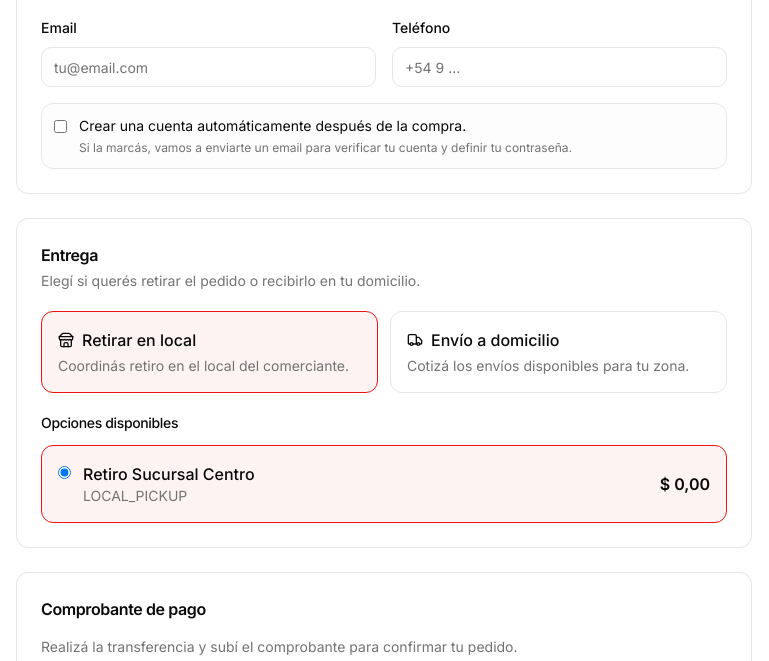
Test: CheckoutPage › clears pickup quotes when switching to home delivery until the user requests a new quote
(page scrolled)
Check: the text "Retiro Sucursal Centro" is shown, box left=83, top=462, right=255, bottom=486
What coordinates should you click on to do the following:
click the button "Envío a domicilio"
I would click on:
 (558, 352)
Its box is left=390, top=311, right=727, bottom=393.
(page scrolled)
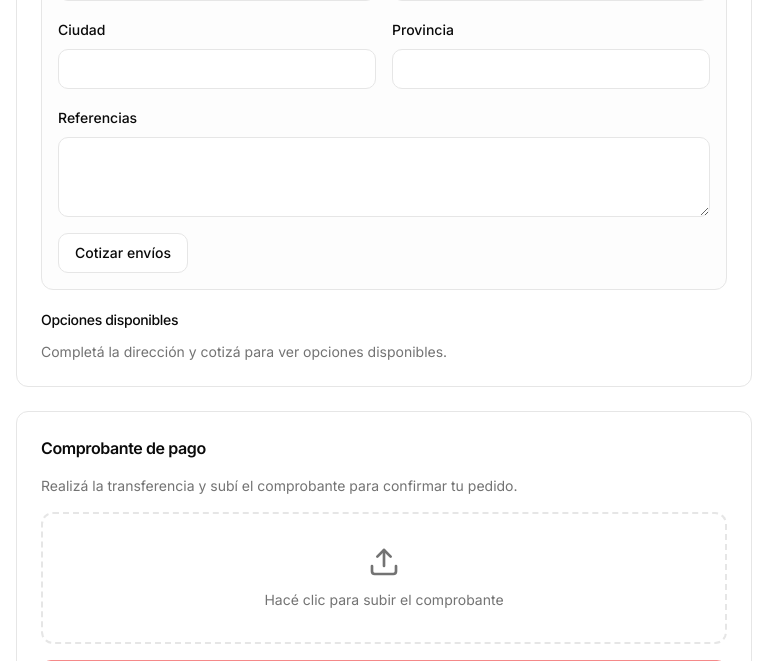
Check: the text "Retiro Sucursal Centro" is gone
Check: the button "Cotizar envíos" is shown, box left=58, top=233, right=188, bottom=273
Check: the text "Completá la dirección y cotizá para ver opciones disponibles" is shown, box left=41, top=343, right=447, bottom=360
